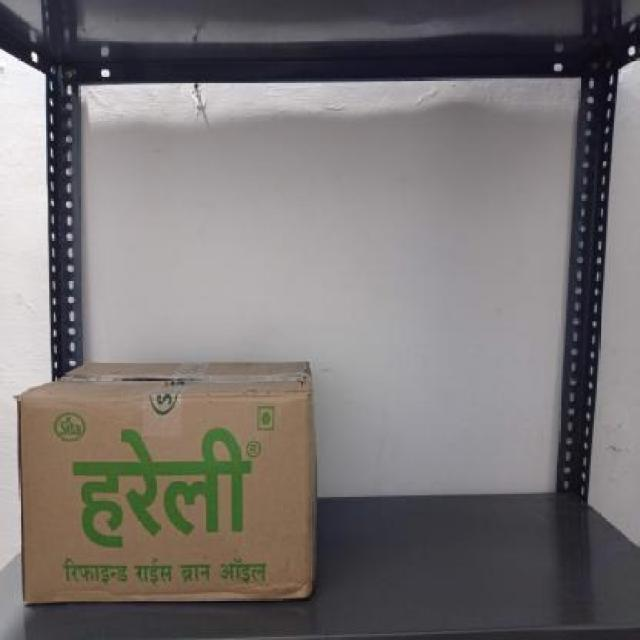box: (15, 394, 312, 600)
